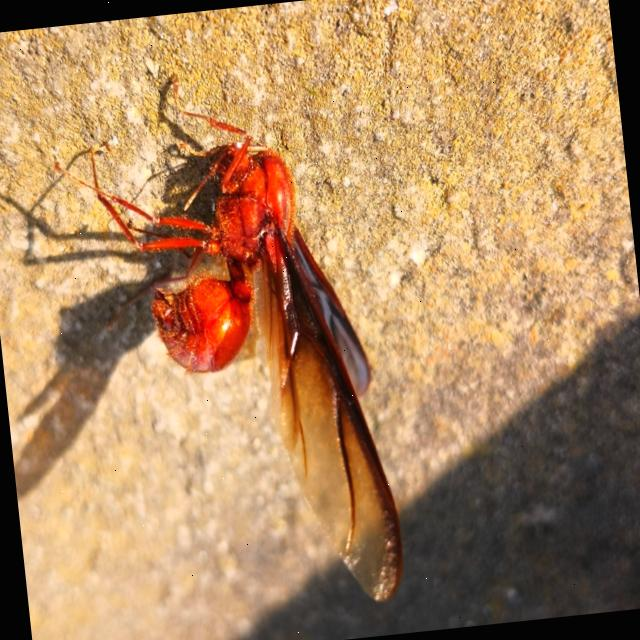Dead-Male-Alate: (45, 54, 408, 632)
